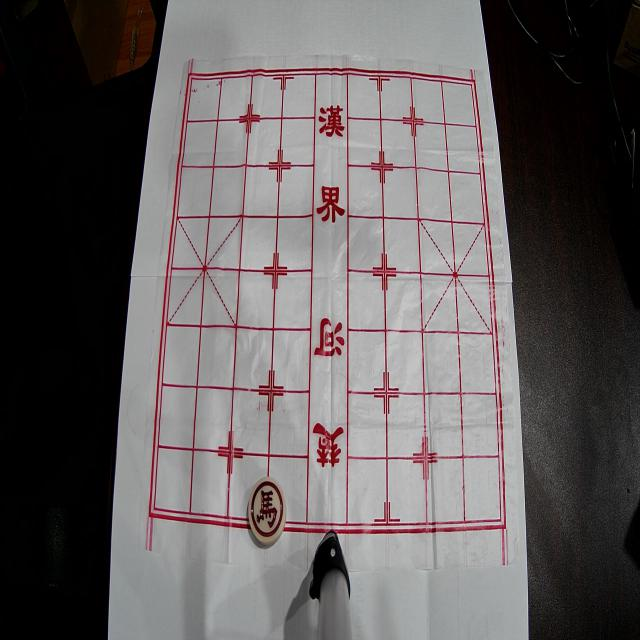red-horse: (248, 476, 287, 546)
